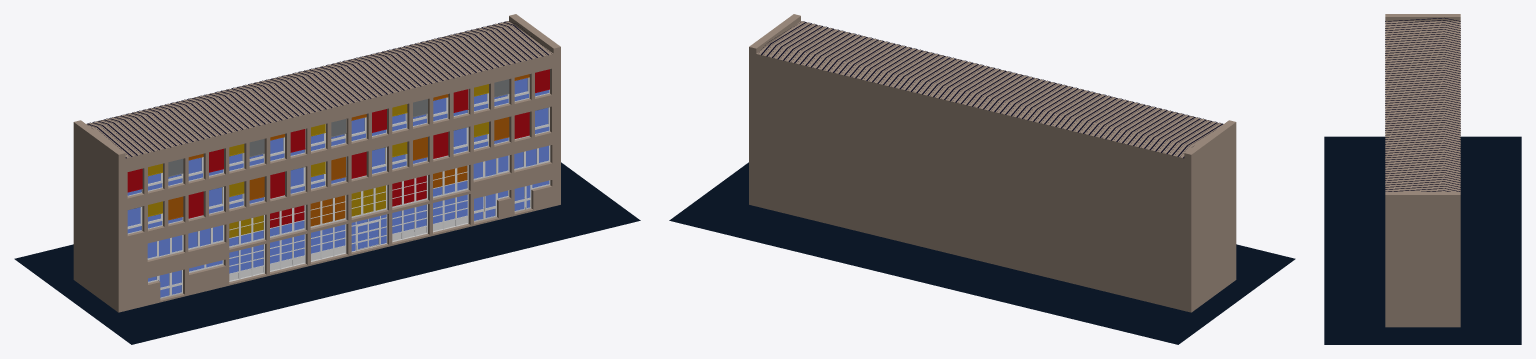
File: building-06.gltf
3 renders of one model, left to right at view 1: azimuth 30°, elevation 25°; view 2: azimuth 150°, elevation 25°; view 3: azimuth 270°, elevation 25°, orthographic. The views are drawn at different scales.
Visible parts, largest first — view 1: Plane, Plane.001, Vert.098, Plane.020, Plane.006, Plane.014, Plane.007, Plane.021, Plane.010, Plane.015, Plane.018, Plane.011; view 2: Plane, Plane.001, Vert.098; view 3: Plane.001, Plane, Vert.098.
Part boxes in pixels (bbox=[...]): Plane: bbox=[73, 14, 560, 312]; Plane.001: bbox=[14, 162, 640, 344]; Vert.098: bbox=[87, 21, 551, 158]; Plane.020: bbox=[188, 151, 366, 218]; Plane.006: bbox=[127, 129, 305, 192]; Plane.014: bbox=[168, 157, 345, 220]; Plane.007: bbox=[372, 69, 549, 132]; Plane.021: bbox=[433, 112, 529, 158]; Plane.010: bbox=[168, 119, 346, 176]; Plane.015: bbox=[413, 117, 509, 160]; Plane.018: bbox=[148, 161, 325, 216]; Plane.011: bbox=[413, 79, 509, 117]; Plane: bbox=[749, 14, 1236, 312]; Plane.001: bbox=[669, 162, 1295, 344]; Vert.098: bbox=[759, 21, 1222, 158]; Plane.001: bbox=[1324, 136, 1521, 344]; Plane: bbox=[1385, 14, 1460, 327]; Vert.098: bbox=[1385, 17, 1460, 194].
Size of the model in its own units: 18.34 by 5.44 by 7.33.
